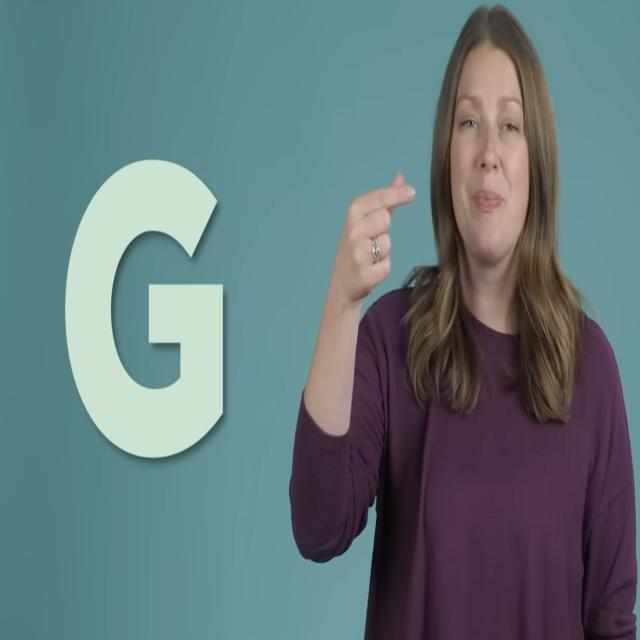G: (303, 138, 423, 353)
